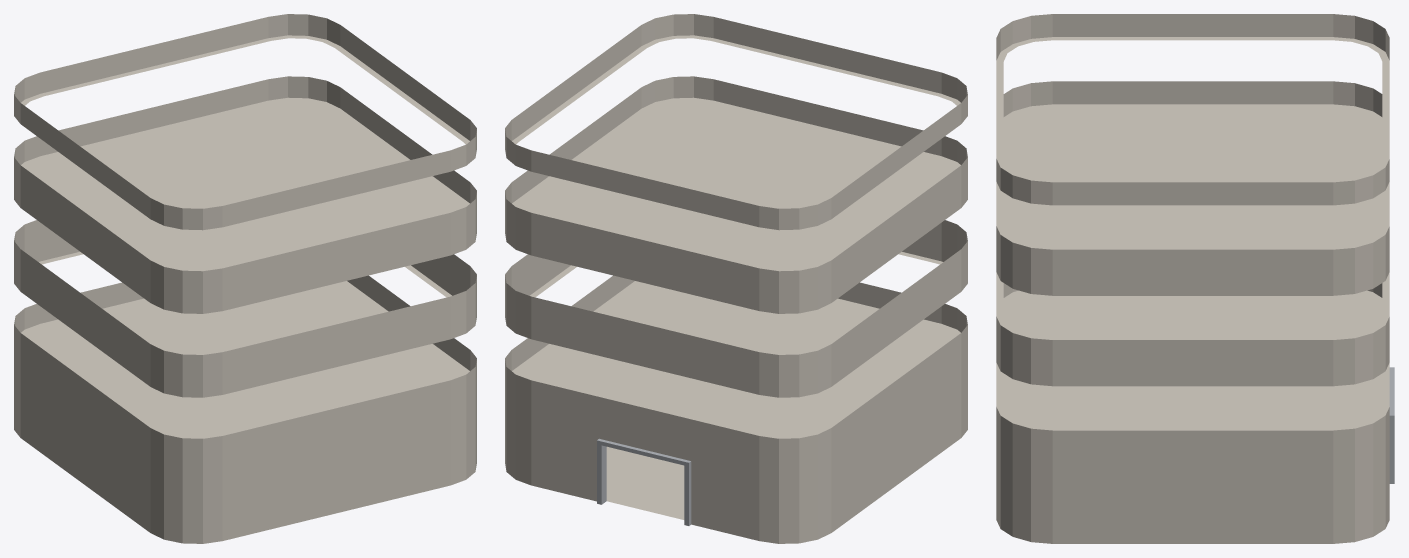
The model's file is Bld_R_med_L5_A.fbx.
3 views of the same model, side by side, from view 1: azimuth 30°, elevation 25°; view 2: azimuth 150°, elevation 25°; view 3: azimuth 270°, elevation 25° (orthographic). The views are drawn at different scales.
Visible parts, largest first — view 1: Bld_R_med_L5_A_LOD0; view 2: Bld_R_med_L5_A_LOD0; view 3: Bld_R_med_L5_A_LOD0.
Boxes of the visible parts, <box> form: Bld_R_med_L5_A_LOD0: <box>14,14,476,543</box>; Bld_R_med_L5_A_LOD0: <box>505,14,967,543</box>; Bld_R_med_L5_A_LOD0: <box>996,14,1394,543</box>.
Size of what is drawn, in the model's own units: 2200 by 2513 by 2200.
Materials: 1 (1 with a texture image).
